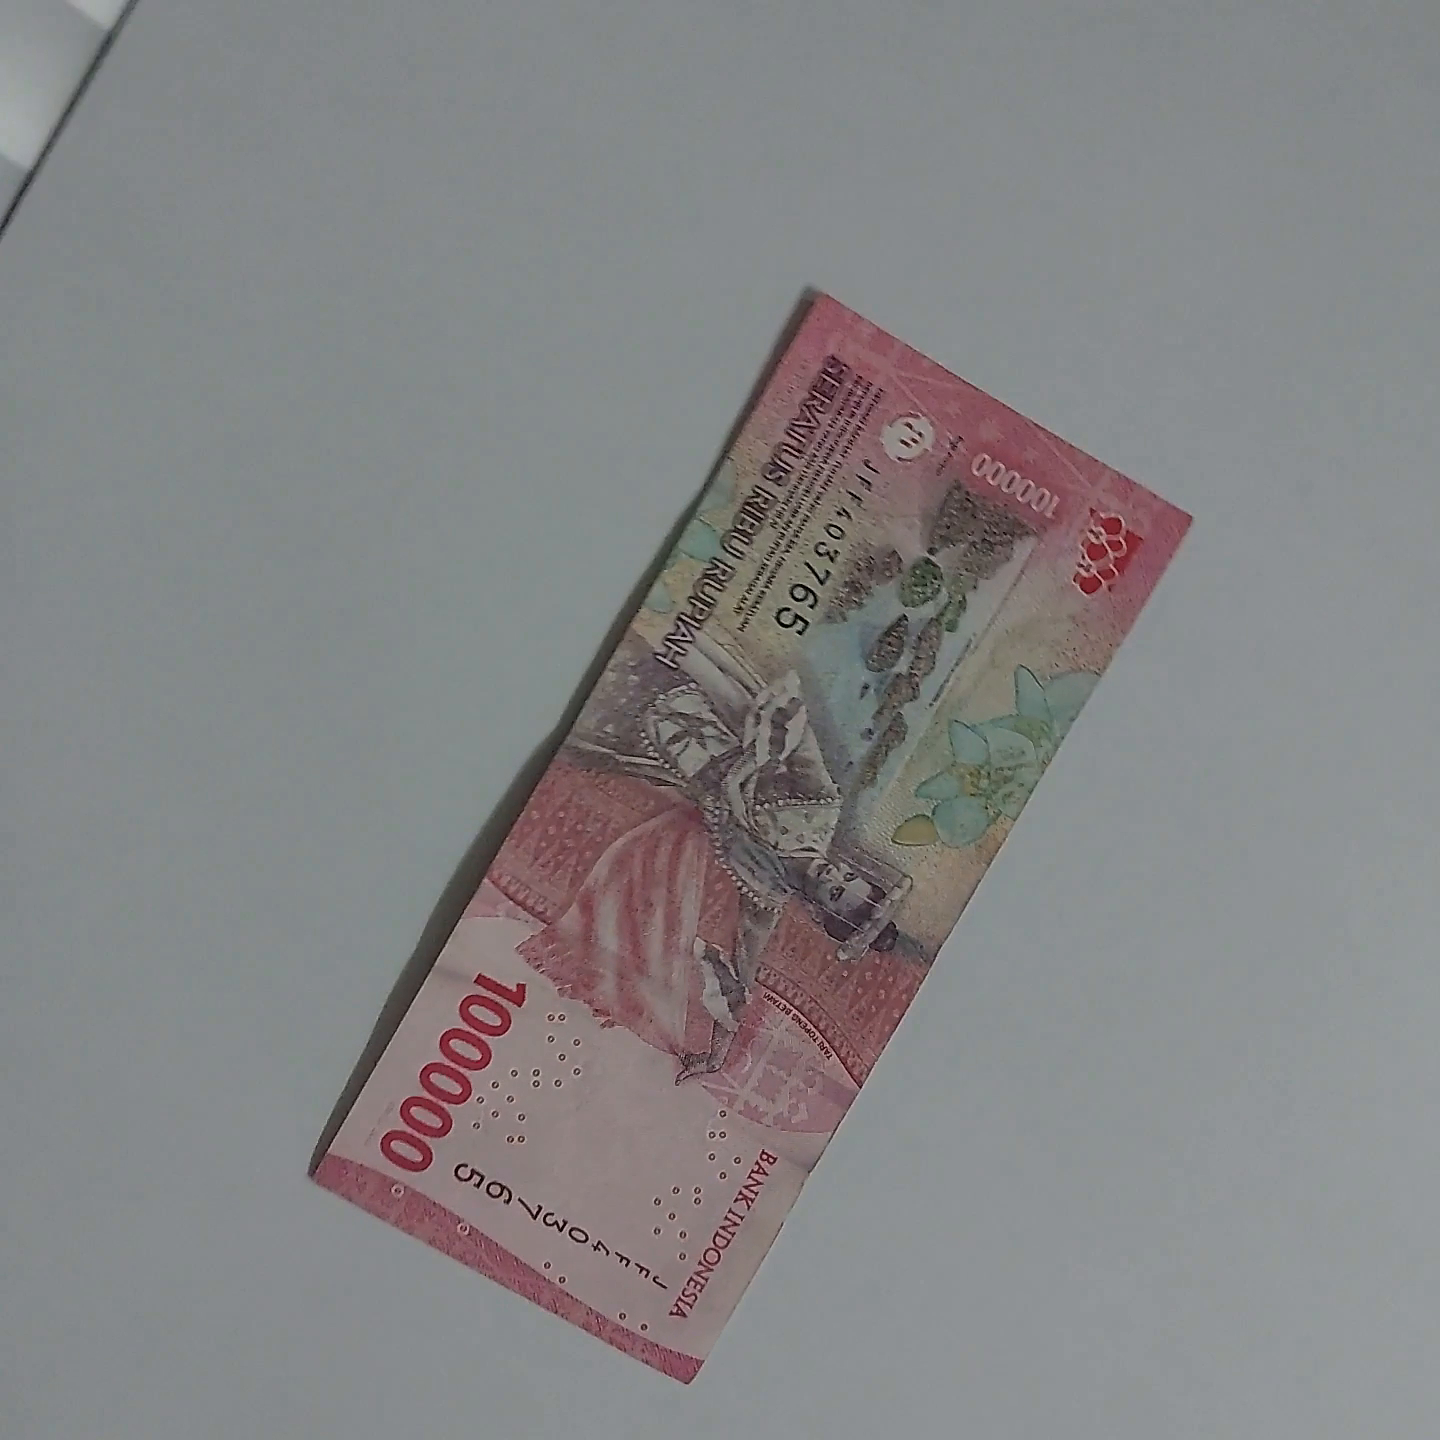100k: (810, 265, 1283, 1323)
